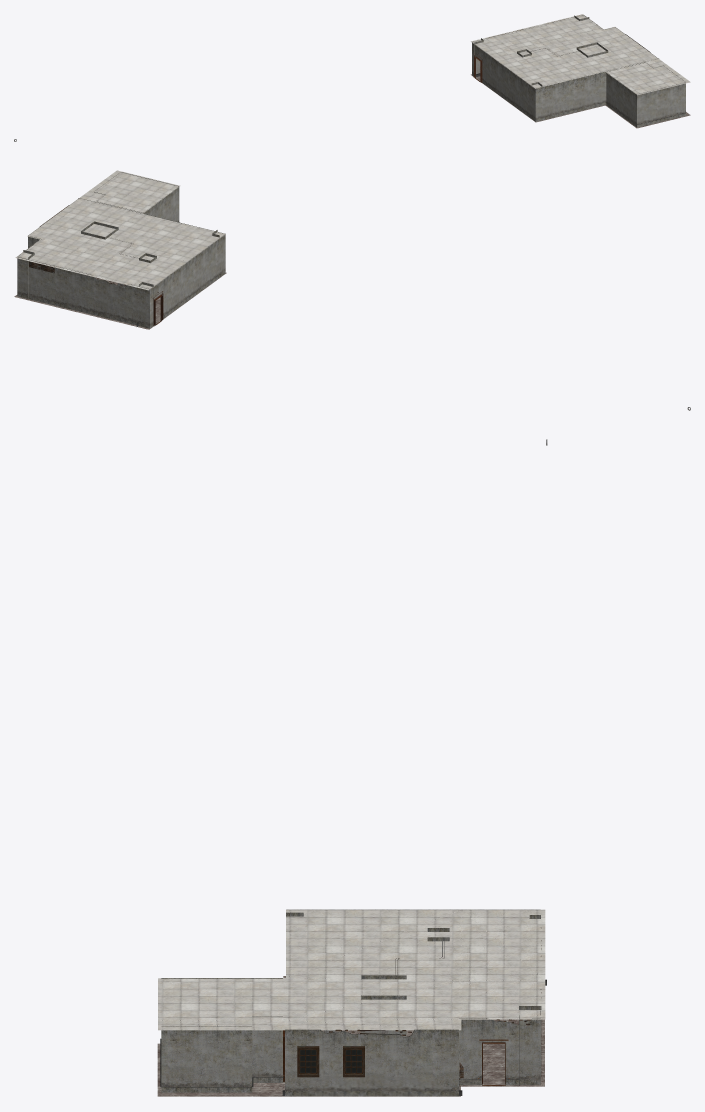
The picture shows the model from 3 angles, top to bottom: view 1: azimuth 30°, elevation 25°; view 2: azimuth 150°, elevation 25°; view 3: azimuth 270°, elevation 25°; orthographic projection. The views are drawn at different scales.
Parts seen in each view (by area): view 1: LOD_1_Group_0_Sub_9__st2_police2fLeftCeiling04, LOD_1_Group_0_Sub_2__st2_police2fRightWall03, LOD_1_Group_0_Sub_10__st2_policeWest3f4fFloor02; view 2: LOD_1_Group_0_Sub_9__st2_police2fLeftCeiling04, LOD_1_Group_0_Sub_2__st2_police2fRightWall03, LOD_1_Group_0_Sub_10__st2_policeWest3f4fFloor02; view 3: LOD_1_Group_0_Sub_9__st2_police2fLeftCeiling04, LOD_1_Group_0_Sub_2__st2_police2fRightWall03, LOD_1_Group_0_Sub_10__st2_policeWest3f4fFloor02, LOD_1_Group_0_Sub_6__st2_police1fRightWindows03.
Boxes of the visible parts, x1,y1,x2,y2 form: LOD_1_Group_0_Sub_9__st2_police2fLeftCeiling04: [471, 14, 690, 95]; LOD_1_Group_0_Sub_2__st2_police2fRightWall03: [472, 15, 685, 127]; LOD_1_Group_0_Sub_10__st2_policeWest3f4fFloor02: [471, 74, 690, 128]; LOD_1_Group_0_Sub_9__st2_police2fLeftCeiling04: [15, 170, 225, 290]; LOD_1_Group_0_Sub_2__st2_police2fRightWall03: [17, 172, 225, 328]; LOD_1_Group_0_Sub_10__st2_policeWest3f4fFloor02: [14, 272, 226, 329]; LOD_1_Group_0_Sub_9__st2_police2fLeftCeiling04: [158, 909, 545, 1030]; LOD_1_Group_0_Sub_2__st2_police2fRightWall03: [161, 909, 541, 1096]; LOD_1_Group_0_Sub_10__st2_policeWest3f4fFloor02: [157, 976, 544, 1096]; LOD_1_Group_0_Sub_6__st2_police1fRightWindows03: [297, 1046, 364, 1077].
Size of the model in its own units: 60.65 by 4.65 by 17.61.
